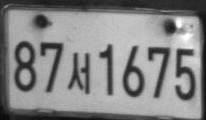1: (95, 43, 120, 96)
5: (174, 47, 197, 101)
6: (120, 44, 145, 98)
7: (146, 45, 171, 98), (39, 41, 64, 92)
8: (13, 39, 37, 92)
서: (67, 51, 90, 94)
